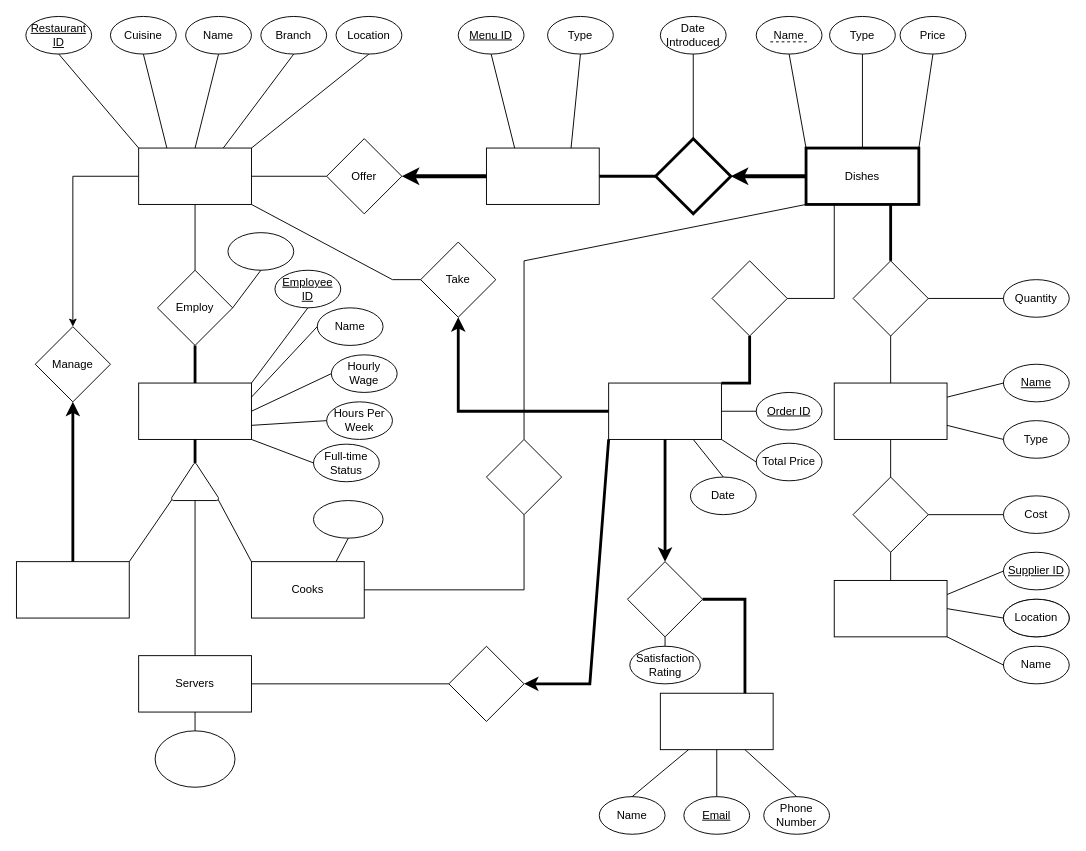
Some shapes in this 1086 by 851 pixel diagram are drawn without their labels. The shapes that lost their labels are listed below. From the top down, each one's centre as x and y in pixels, then its label:
At (x=194, y=175): "Restaurants".
At (x=542, y=175): "Menus".
At (x=693, y=176): "Have".
At (x=260, y=251): "Date Employed".
At (x=749, y=298): "Include".
At (x=890, y=298): "Contain".
At (x=194, y=410): "Employees".
At (x=664, y=410): "Orders".
At (x=890, y=410): "Ingredients".
At (x=195, y=481): "IsA: Disjoint, Total".
At (x=524, y=477): "Can Cook".
At (x=348, y=519): "Rank".
At (x=890, y=514): "Supply".
At (x=72, y=589): "Managers".
At (x=665, y=599): "Place".
At (x=890, y=608): "Suppliers".
At (x=486, y=683): "Serve".
At (x=716, y=721): "Customers".
At (x=194, y=758): "Alcohol Serving Certification".
